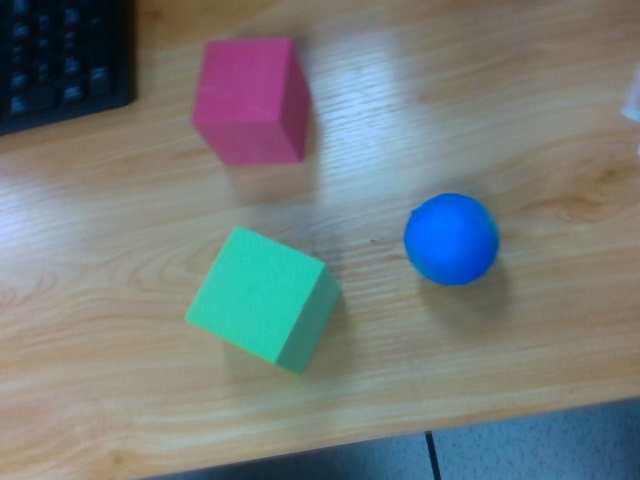blueball: (401, 194, 501, 284)
green: (186, 224, 343, 376)
red: (191, 37, 311, 162)
